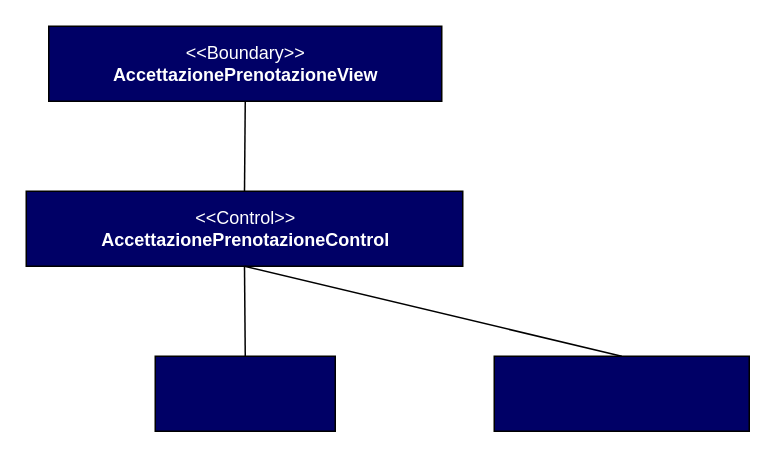
Image size: 776x458. Some labels were removed from this diagram. Each missing label, with the centre of its shape:
<<Entity>> Impiegato: pixel 244 393
<<Entity>> PrenotazioniRepository: pixel 621 393
